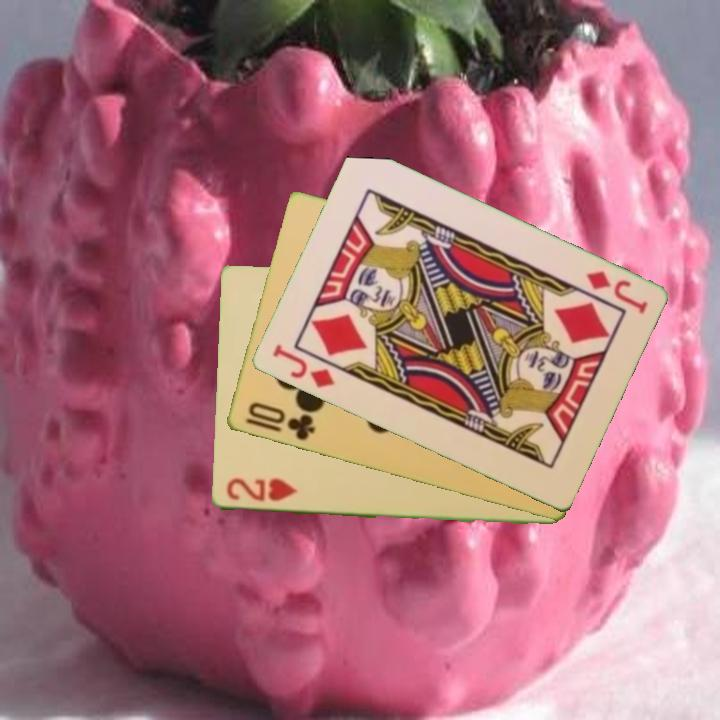10c: (242, 399, 318, 444)
2h: (223, 475, 300, 505)
Jd: (268, 341, 337, 392), (582, 267, 650, 317)
